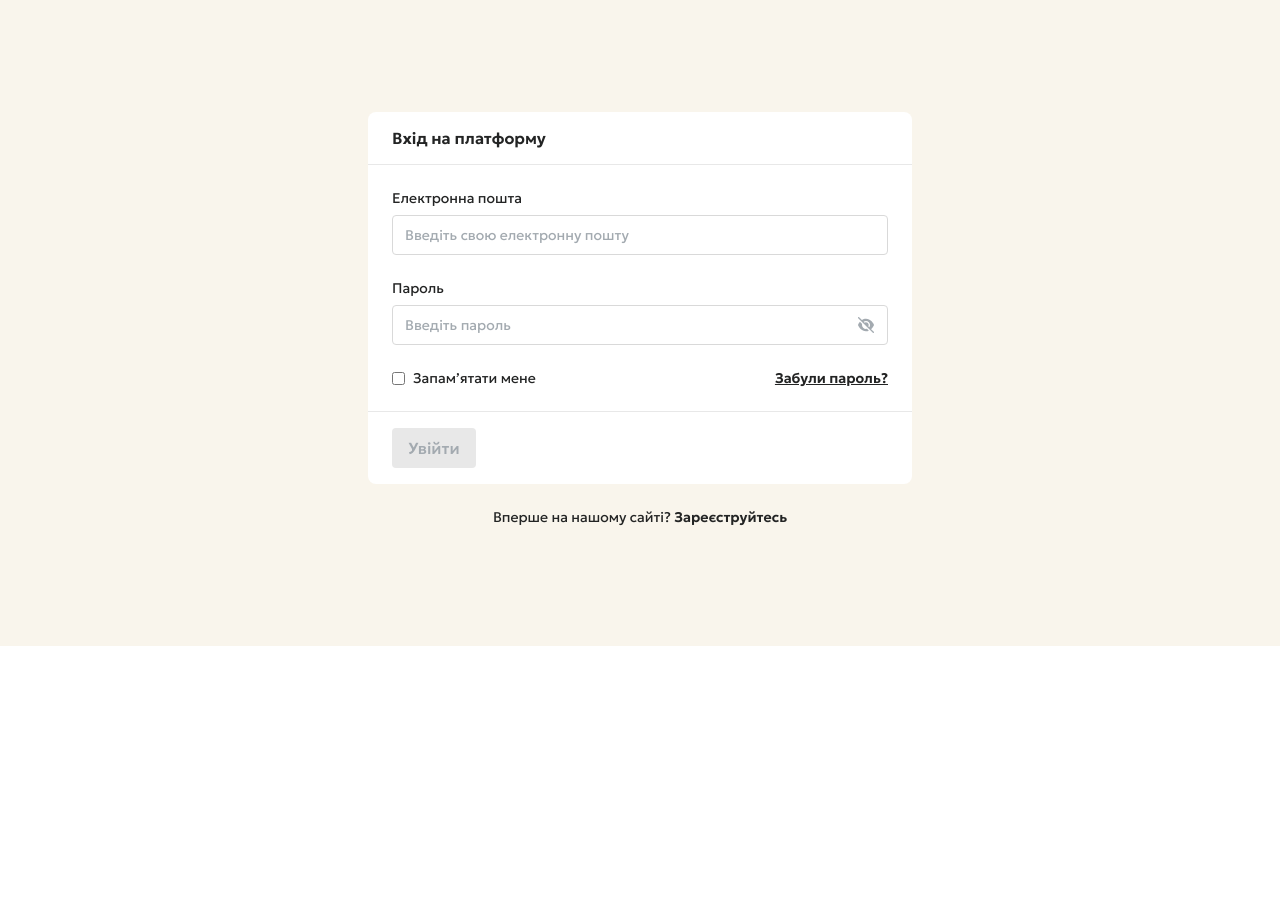
Test case: Login page › shows the credentials error and hides it once the user edits the form
This screenshot has width=1280, height=900.
Type "founder@example.com" into the field labelled "Електронна пошта" at (640, 235), box x1=392 y1=215 x2=888 y2=255
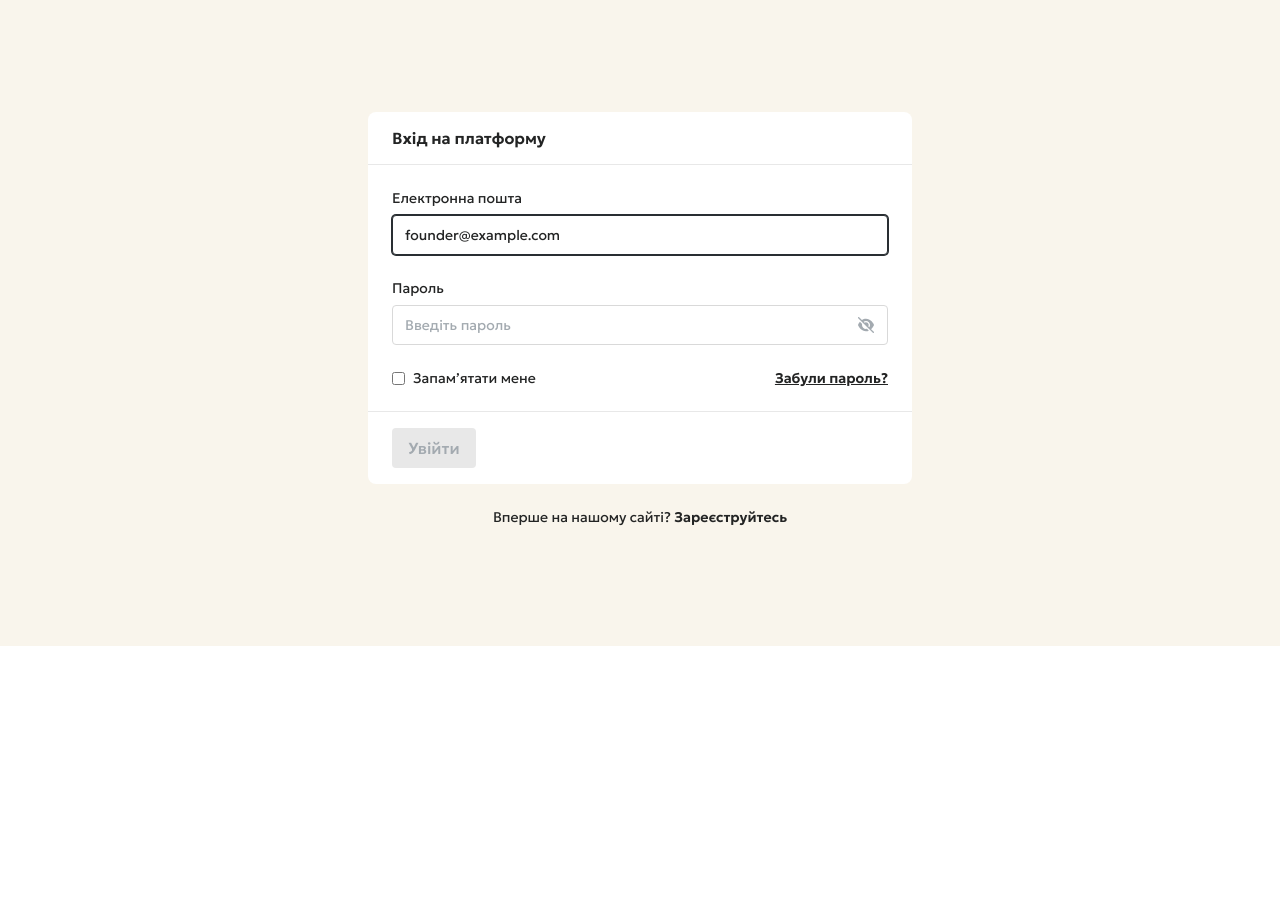
Type "secret" into the password field labelled "Пароль" at (640, 325), box x1=392 y1=305 x2=888 y2=345
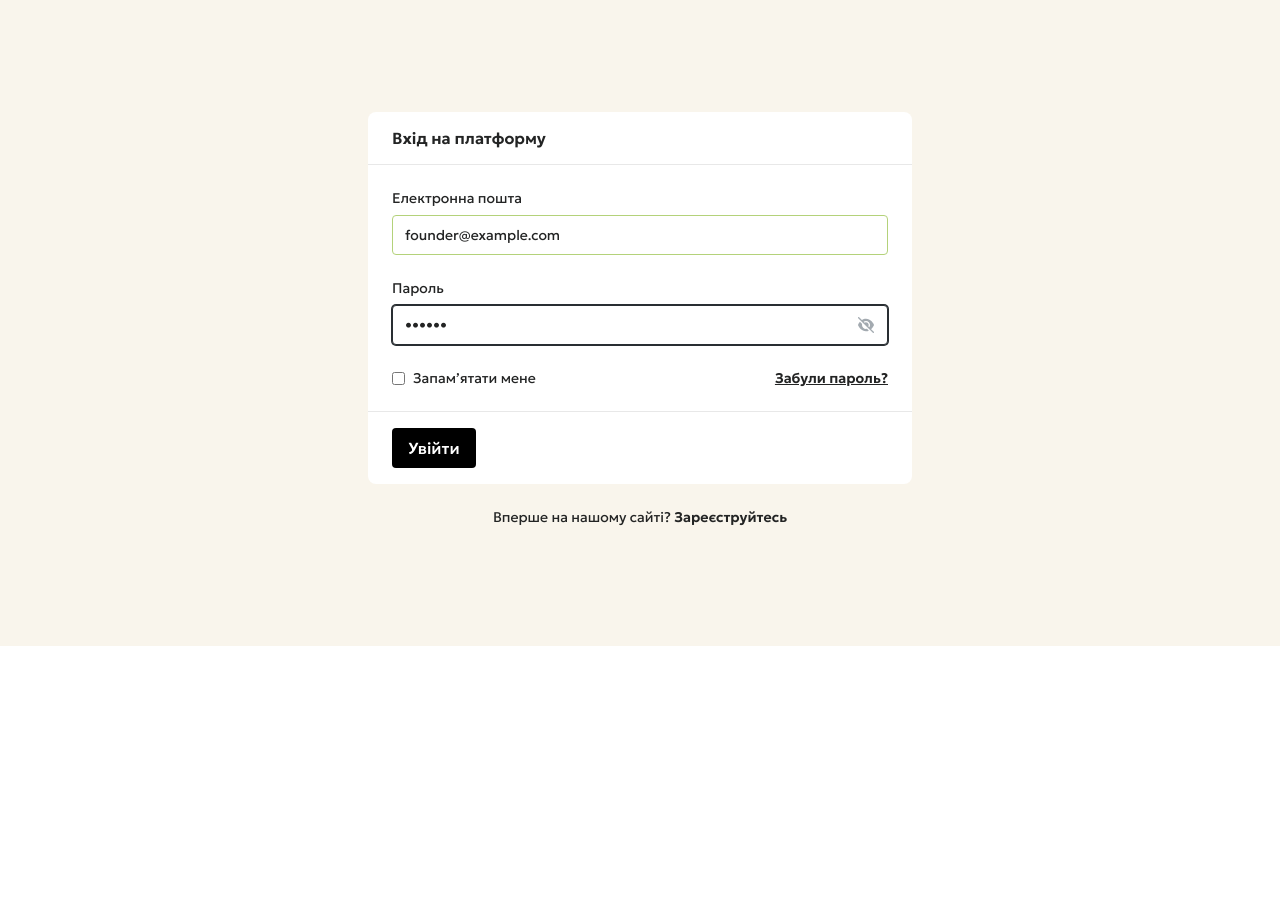
Click the button "Увійти" at (434, 448), box x1=392 y1=428 x2=476 y2=468
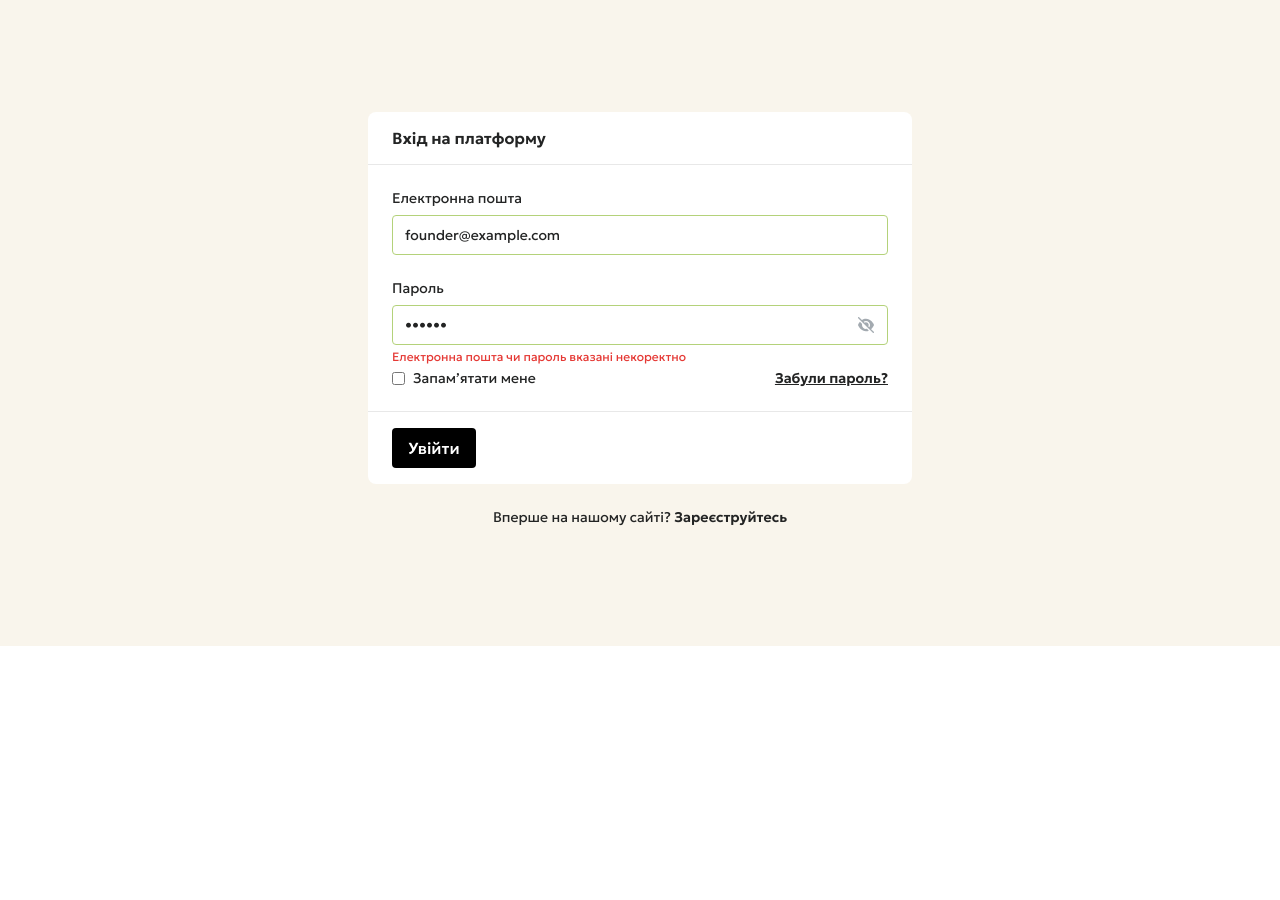
Check: the button "Увійти" is enabled, box x1=392 y1=428 x2=476 y2=468
Check: the text "Електронна пошта чи пароль вказані некоректно" is shown, box x1=392 y1=349 x2=686 y2=365
Type "1" into the password field labelled "Пароль" at (640, 325), box x1=392 y1=305 x2=888 y2=345
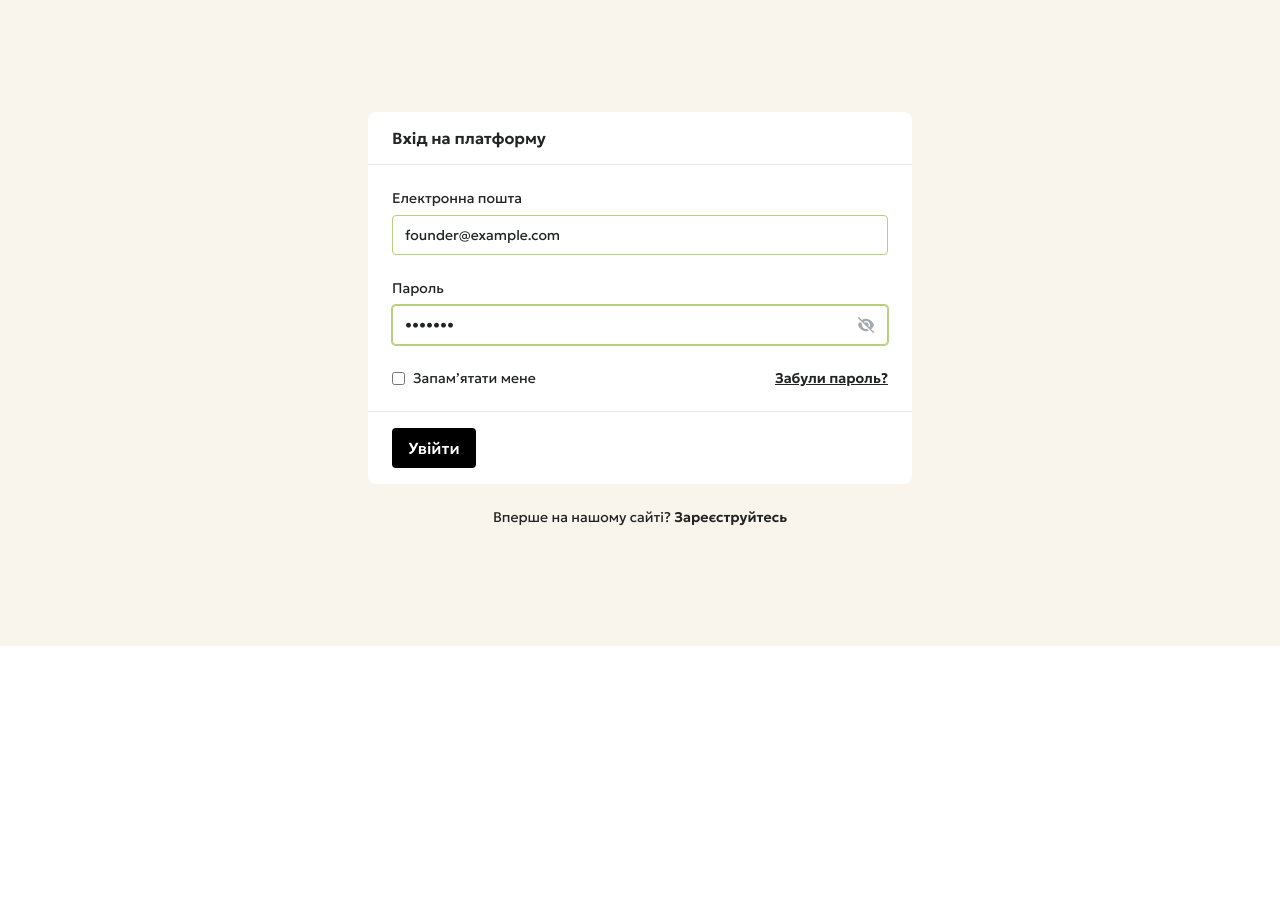
Check: the text "Електронна пошта чи пароль вказані некоректно" is gone
